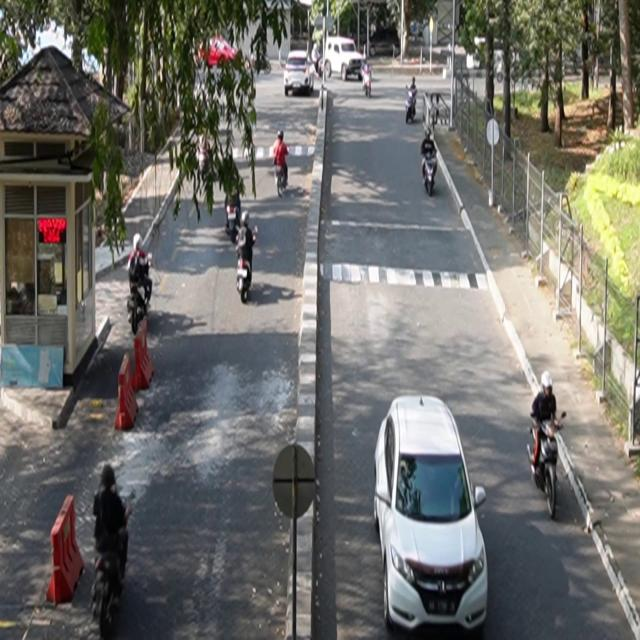car: (374, 395, 489, 636), (284, 50, 316, 97)
